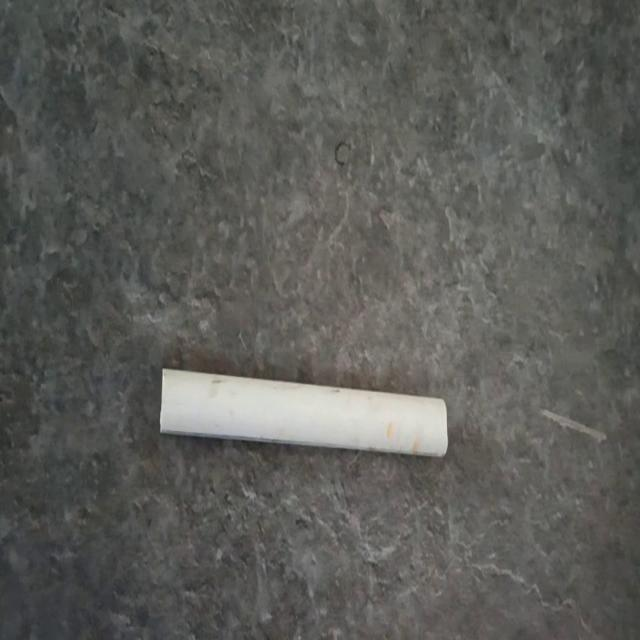Cube: (158, 364, 448, 458)
